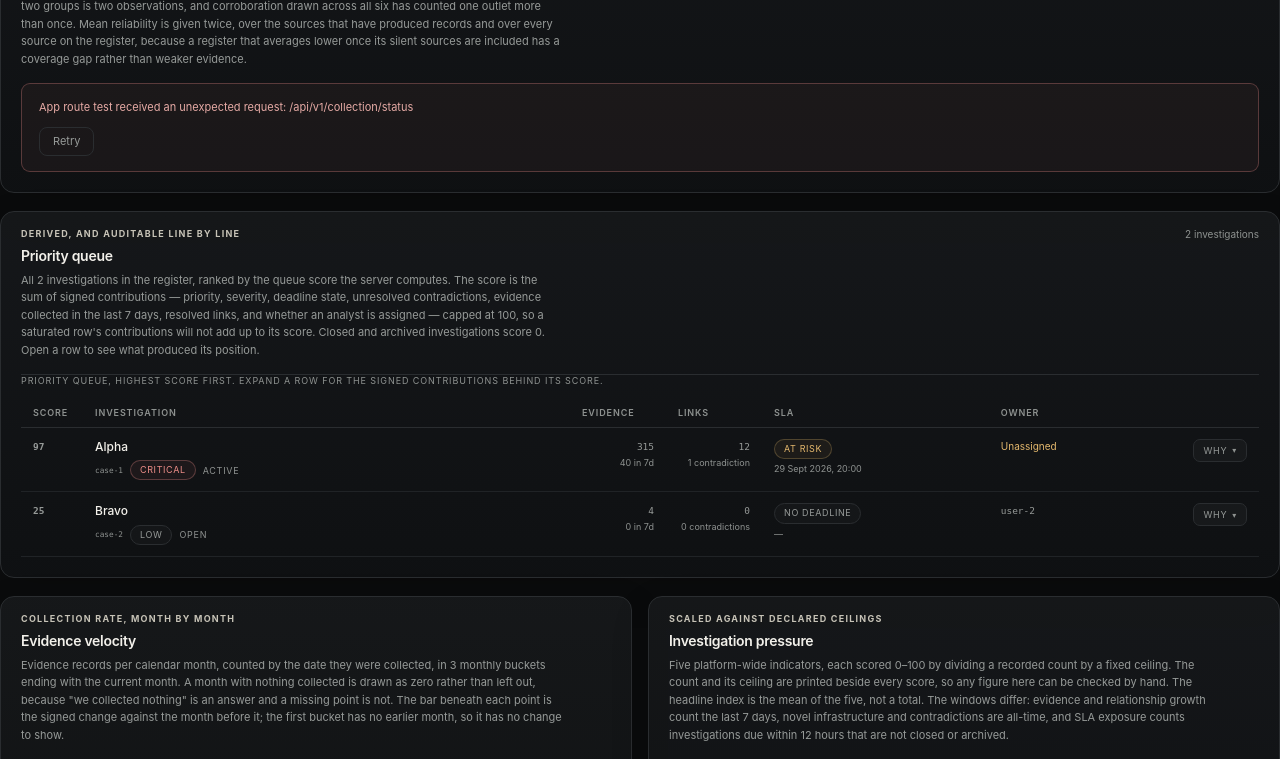
Test case: CommandCenterPage › ranks the queue by score and expands a row without navigating
The image size is (1280, 759).
(page scrolled)
Click the 1st button "Why ▾": click(1220, 450) top-left (1193, 439), bottom-right (1247, 462)
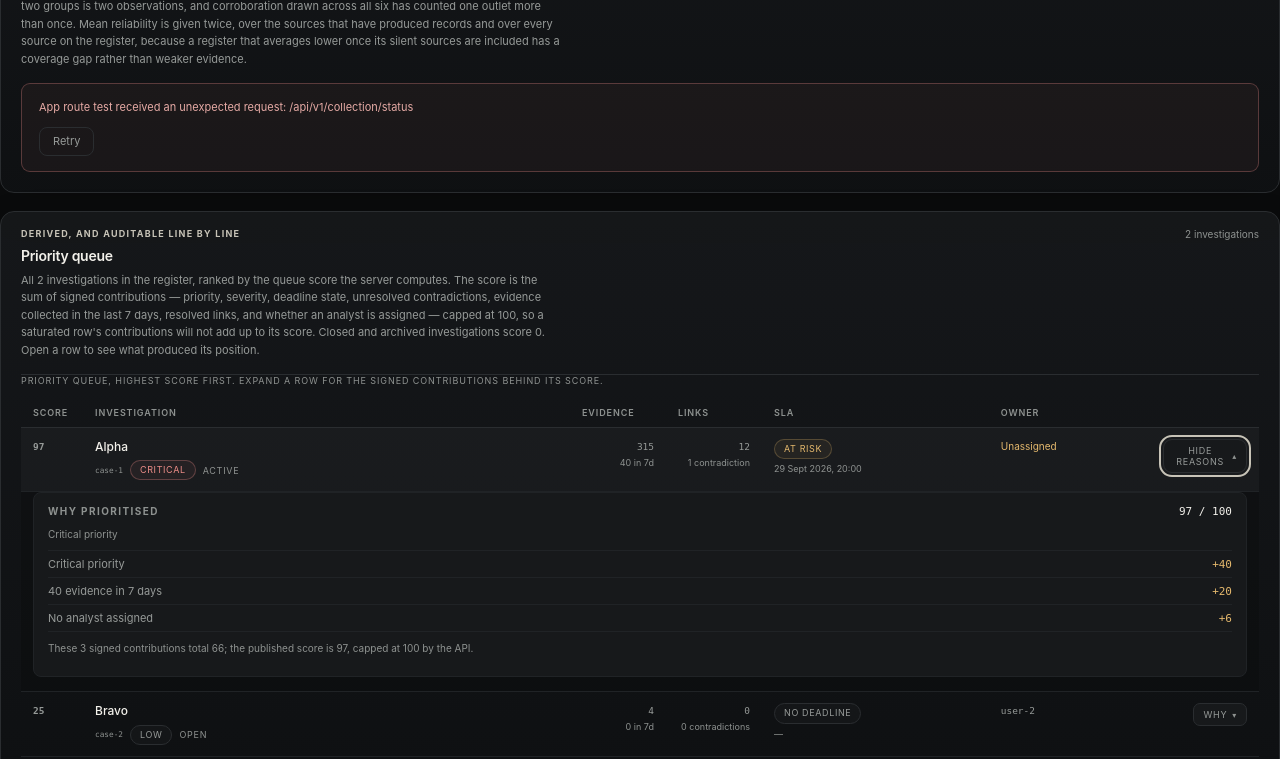
Now the button "Hide reasons ▴" is expanded, box top-left (1163, 439), bottom-right (1247, 473)
Now the text "No analyst assigned" is shown, box top-left (48, 611), bottom-right (153, 625)
Now the text "signed contributions total" is shown, box top-left (48, 642), bottom-right (473, 654)
